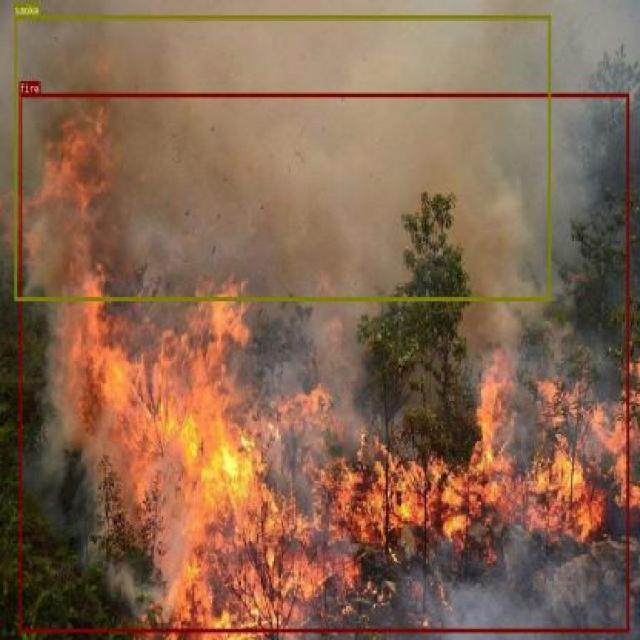Fire: (18, 92, 630, 632)
Smoke: (14, 14, 550, 300)
